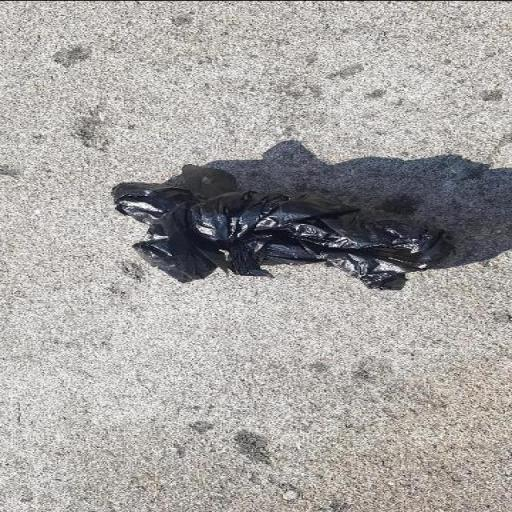plastic-bag: (107, 182, 454, 290)
